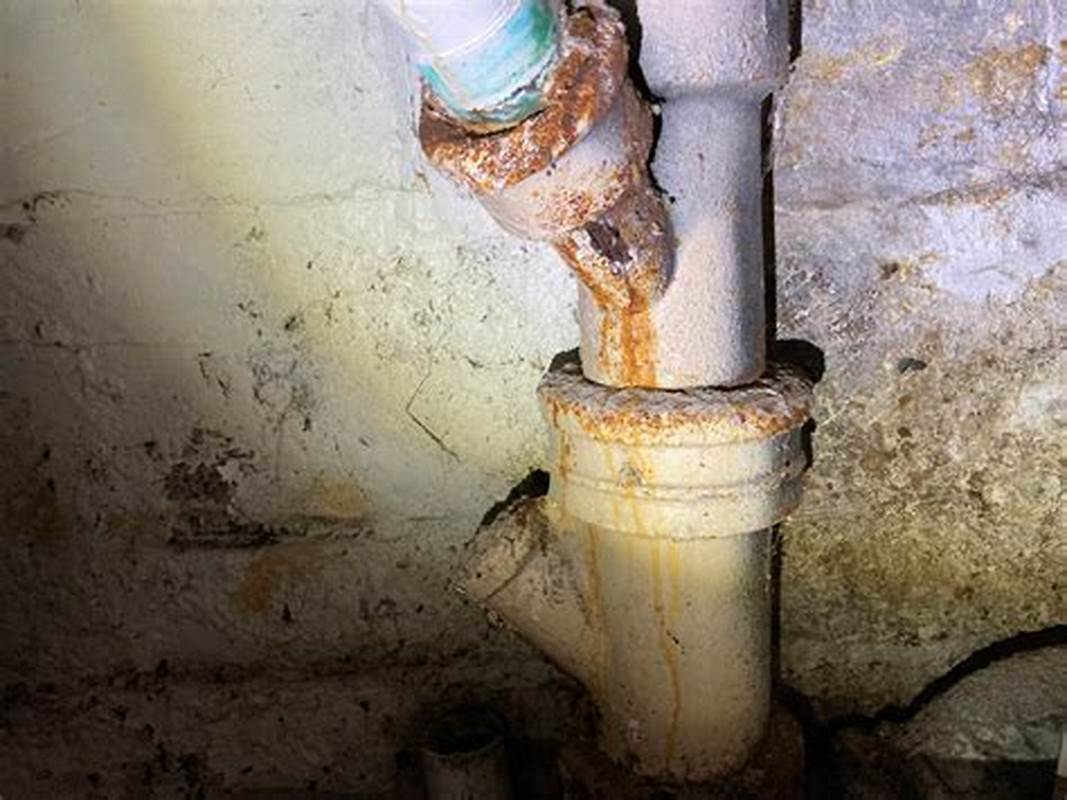Low: (510, 295, 841, 543)
Moderate: (351, 17, 725, 294)
